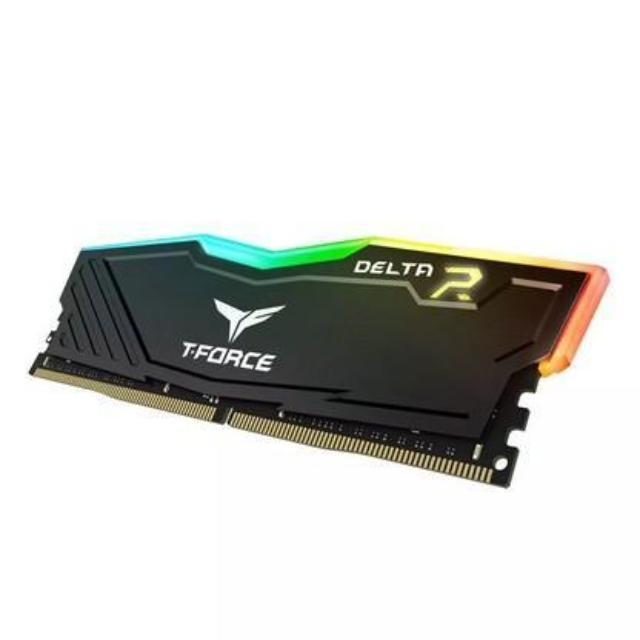RAM: (21, 208, 608, 494)
